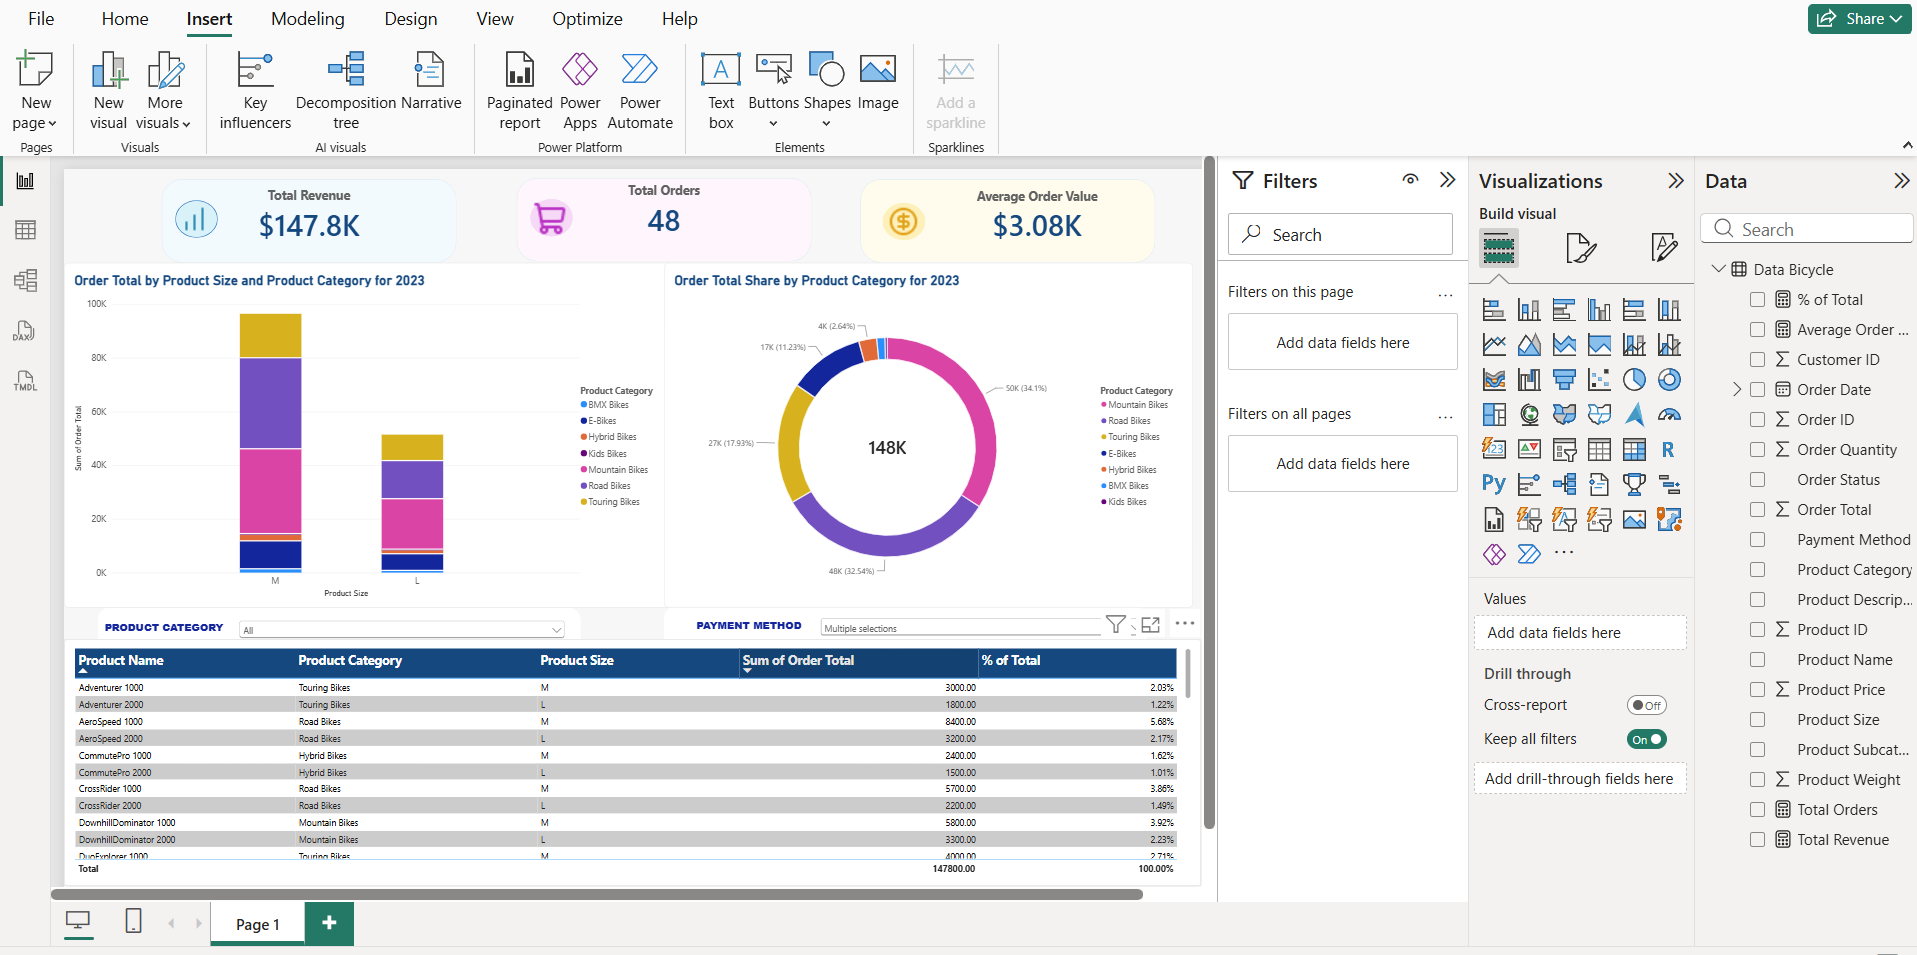

This screenshot's page, from the dashboard's own definition file:
{"tool":"powerbi","page":{"name":"Page 1","canvas":[1920,1250],"ordinal":0},"visuals":[{"type":"shape","box":[724.4,14.8,472,134],"z":0},{"type":"shape","box":[960,700,772,74],"z":1000},{"type":"shape","box":[54,702,772,74],"z":2000},{"type":"shape","box":[156,16,472,134],"z":3000},{"type":"cardVisual","fields":{"Data":["Data Bicycle.Total Revenue"]},"box":[182,16,420,116],"z":4000},{"type":"slicer","fields":{"Values":["i4LNmR9pROuHP1JLs5i4ng_3652883b57554acc8bc5cac94f5dc5e1_AdventureWorks-sales-dat.Product Category"]},"box":[256,718,570,58],"z":5000},{"type":"slicer","fields":{"Values":["i4LNmR9pROuHP1JLs5i4ng_3652883b57554acc8bc5cac94f5dc5e1_AdventureWorks-sales-dat.Payment Method"]},"box":[1206,714,526,66],"z":6000},{"type":"columnChart","title":"Order Total by Product Size and Product Category for 2023","fields":{"Category":["i4LNmR9pROuHP1JLs5i4ng_3652883b57554acc8bc5cac94f5dc5e1_AdventureWorks-sales-dat.Product Size"],"Series":["i4LNmR9pROuHP1JLs5i4ng_3652883b57554acc8bc5cac94f5dc5e1_AdventureWorks-sales-dat.Product Category"],"Y":["Sum(i4LNmR9pROuHP1JLs5i4ng_3652883b57554acc8bc5cac94f5dc5e1_AdventureWorks-sales-dat.Order Total)"]},"box":[0,150,974,552],"z":7000},{"type":"donutChart","title":"Order Total Share by Product Category for 2023","fields":{"Category":["i4LNmR9pROuHP1JLs5i4ng_3652883b57554acc8bc5cac94f5dc5e1_AdventureWorks-sales-dat.Product Category"],"Y":["Sum(i4LNmR9pROuHP1JLs5i4ng_3652883b57554acc8bc5cac94f5dc5e1_AdventureWorks-sales-dat.Order Total)"]},"box":[960,150,846,552],"z":8000},{"type":"tableEx","fields":{"Values":["i4LNmR9pROuHP1JLs5i4ng_3652883b57554acc8bc5cac94f5dc5e1_AdventureWorks-sales-dat.Product Name","Data Bicycle.Product Category","Data Bicycle.Product Size","Sum(i4LNmR9pROuHP1JLs5i4ng_3652883b57554acc8bc5cac94f5dc5e1_AdventureWorks-sales-dat.Order Total)","Data Bicycle.% of Total"]},"box":[0,752,1820,396],"z":9000},{"type":"shape","box":[178,50,68,60],"z":10000},{"type":"image","box":[178,58,62,44],"z":11000},{"type":"textbox","box":[1714,0,150,150],"z":12000},{"type":"textbox","box":[62,722,196,58],"z":13000},{"type":"textbox","box":[990,718,212,34],"z":14000},{"type":"shape","box":[746.4,48.8,68,60],"z":15000},{"type":"shape","box":[1274,16,472,134],"z":16000},{"type":"shape","box":[1310,54,68,60],"z":17000},{"type":"cardVisual","fields":{"Data":["Data Bicycle.Total Orders"]},"box":[882,0,156,132],"z":17001},{"type":"image","box":[746,52,62,54],"z":17002},{"type":"cardVisual","fields":{"Data":["Data Bicycle.Average Order Value"]},"box":[1426,0,262,150],"z":17003},{"type":"image","box":[1312,60,62,48],"z":17004}]}

Visuals, with their boxes on the page's 1920x1250 design canvas (x1, y1, x2, y2). These are canvas units, not pixel positions in the 1917x955 screenshot, which may show the page scaled, cropped or inside an application window:
shape: (left=724, top=15, right=1196, bottom=149)
shape: (left=960, top=700, right=1732, bottom=774)
shape: (left=54, top=702, right=826, bottom=776)
shape: (left=156, top=16, right=628, bottom=150)
cardVisual - Data Bicycle.Total Revenue: (left=182, top=16, right=602, bottom=132)
slicer - i4LNmR9pROuHP1JLs5i4ng_3652883b57554acc8bc5cac94f5dc5e1_AdventureWorks-sales-dat.Product Category: (left=256, top=718, right=826, bottom=776)
slicer - i4LNmR9pROuHP1JLs5i4ng_3652883b57554acc8bc5cac94f5dc5e1_AdventureWorks-sales-dat.Payment Method: (left=1206, top=714, right=1732, bottom=780)
"Order Total by Product Size and Product Category for 2023" columnChart: (left=0, top=150, right=974, bottom=702)
"Order Total Share by Product Category for 2023" donutChart: (left=960, top=150, right=1806, bottom=702)
tableEx - i4LNmR9pROuHP1JLs5i4ng_3652883b57554acc8bc5cac94f5dc5e1_AdventureWorks-sales-dat.Product Name x Data Bicycle.Product Category: (left=0, top=752, right=1820, bottom=1148)
shape: (left=178, top=50, right=246, bottom=110)
image: (left=178, top=58, right=240, bottom=102)
textbox: (left=1714, top=0, right=1864, bottom=150)
textbox: (left=62, top=722, right=258, bottom=780)
textbox: (left=990, top=718, right=1202, bottom=752)
shape: (left=746, top=49, right=814, bottom=109)
shape: (left=1274, top=16, right=1746, bottom=150)
shape: (left=1310, top=54, right=1378, bottom=114)
cardVisual - Data Bicycle.Total Orders: (left=882, top=0, right=1038, bottom=132)
image: (left=746, top=52, right=808, bottom=106)
cardVisual - Data Bicycle.Average Order Value: (left=1426, top=0, right=1688, bottom=150)
image: (left=1312, top=60, right=1374, bottom=108)
